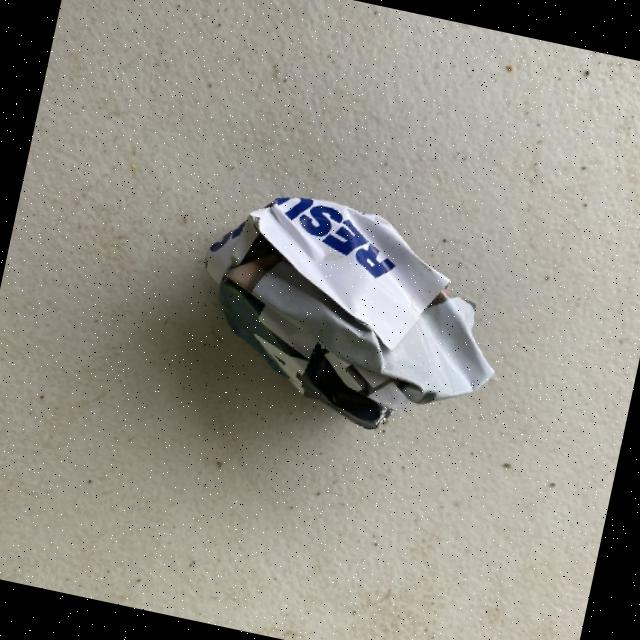paper: (176, 176, 522, 450)
